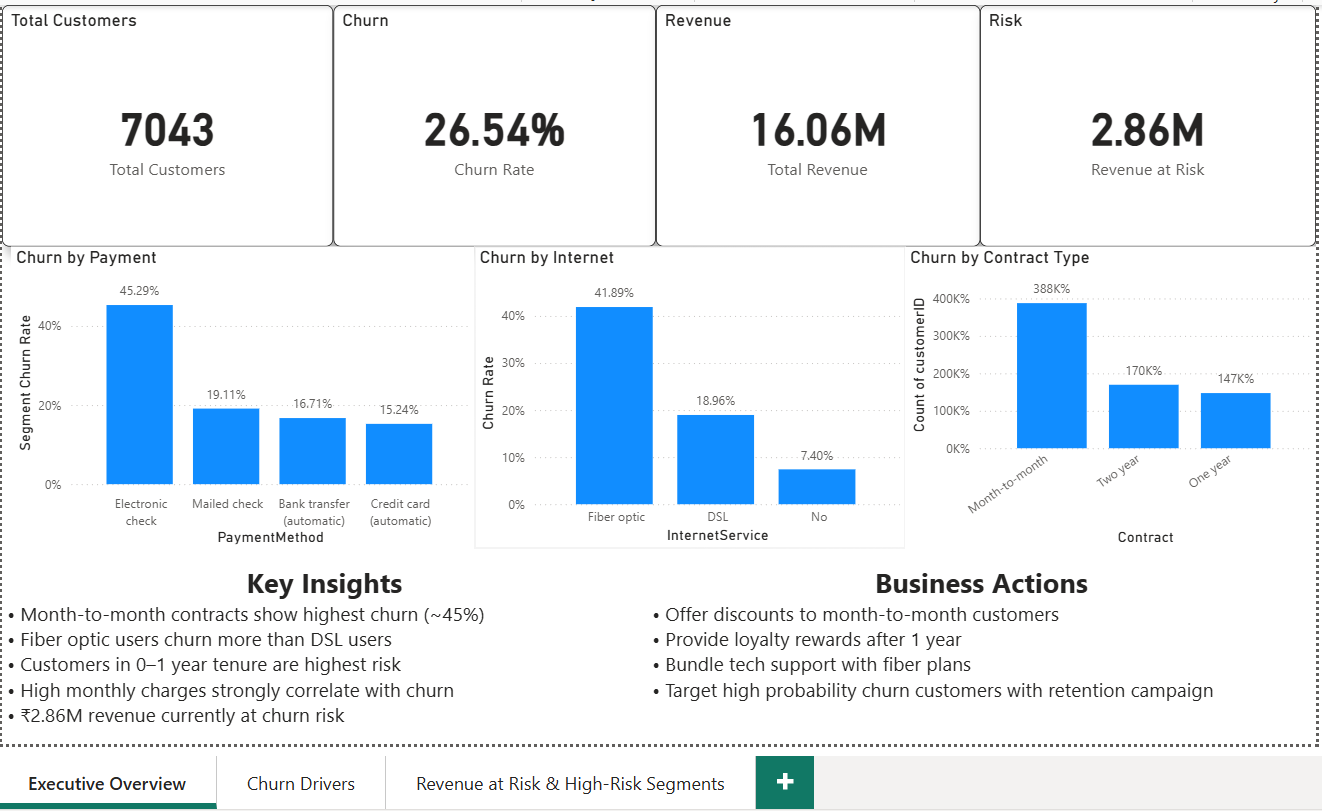

The page's visual inventory and layout, read from the dashboard file:
{"tool":"powerbi","page":{"name":"Executive Overview","canvas":[1280,720],"ordinal":0},"visuals":[{"type":"card","title":"Total Customers","fields":{"Values":["telco_clean.Total Customers"]},"box":[0,0,323,235.3],"z":0},{"type":"card","title":"Churn","fields":{"Values":["telco_clean.Churn Rate"]},"box":[323,0,314.2,235.3],"z":1000},{"type":"card","title":"Revenue","fields":{"Values":["telco_clean.Total Revenue"]},"box":[637.2,0,315.7,235.3],"z":2000},{"type":"card","title":"Risk","fields":{"Values":["telco_clean.Revenue at Risk"]},"box":[952.9,0,327.4,235.3],"z":3000},{"type":"clusteredColumnChart","title":"Churn by Payment ","fields":{"Category":["telco_clean.PaymentMethod"],"Y":["telco_clean.Segment Churn Rate"]},"box":[8.8,235.3,451.6,295.2],"z":4000},{"type":"clusteredColumnChart","title":"Churn by Internet","fields":{"Category":["telco_clean.InternetService"],"Y":["telco_clean.Churn Rate"]},"box":[460.4,235.3,419.4,293.8],"z":5000},{"type":"clusteredColumnChart","title":"Churn by Contract Type","fields":{"Y":["CountNonNull(telco_clean.customerID)"],"Category":["telco_clean.Contract"]},"box":[879.8,235.3,400.4,295.2],"z":6000},{"type":"textbox","box":[0,539.3,628.4,181.2],"z":6001},{"type":"textbox","box":[628.4,539.3,651.8,181.2],"z":6002}]}

Visuals, with their boxes on the page's 1280x720 design canvas (x1, y1, x2, y2). These are canvas units, not pixel positions in the 1322x811 screenshot, which may show the page scaled, cropped or inside an application window:
"Total Customers" card: 0 0 323 235
"Churn" card: 323 0 637 235
"Revenue" card: 637 0 953 235
"Risk" card: 953 0 1280 235
"Churn by Payment " clusteredColumnChart: 9 235 460 530
"Churn by Internet" clusteredColumnChart: 460 235 880 529
"Churn by Contract Type" clusteredColumnChart: 880 235 1280 530
textbox: 0 539 628 720
textbox: 628 539 1280 720
